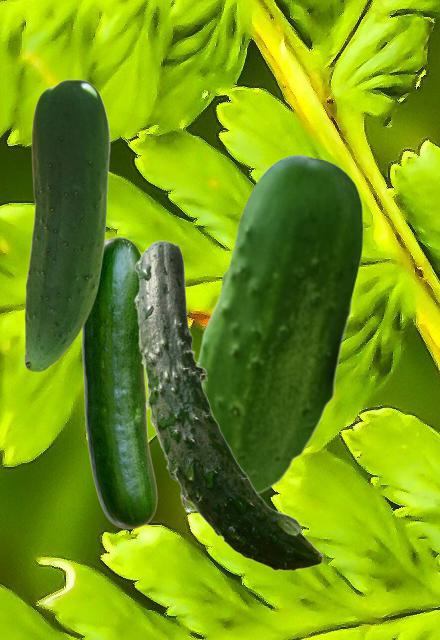cucumber: (133, 240, 322, 570), (196, 154, 362, 495), (24, 79, 109, 371), (81, 236, 156, 528)
